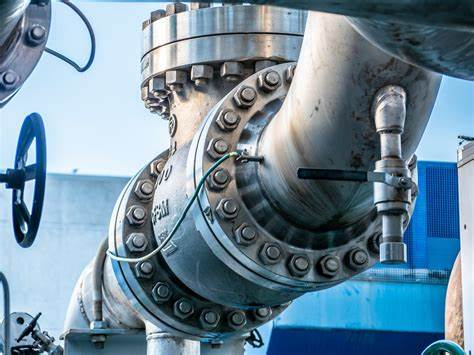bolt_a: (225, 306, 248, 332), (197, 307, 220, 331), (171, 297, 194, 320), (150, 280, 172, 304)
bolt_b: (315, 251, 343, 279), (205, 134, 232, 161), (286, 250, 312, 278), (214, 195, 241, 221), (342, 246, 369, 272), (258, 239, 284, 265), (206, 167, 233, 192), (257, 67, 282, 93), (215, 106, 241, 131), (232, 84, 257, 109), (234, 222, 258, 247), (124, 231, 149, 254), (134, 258, 157, 281), (133, 179, 154, 201), (126, 205, 148, 226)
bolt_c: (188, 64, 215, 83), (217, 63, 244, 81), (147, 78, 173, 96), (163, 69, 188, 87), (88, 331, 109, 346)
vague: (26, 21, 48, 46), (1, 67, 20, 92), (253, 302, 274, 323)
